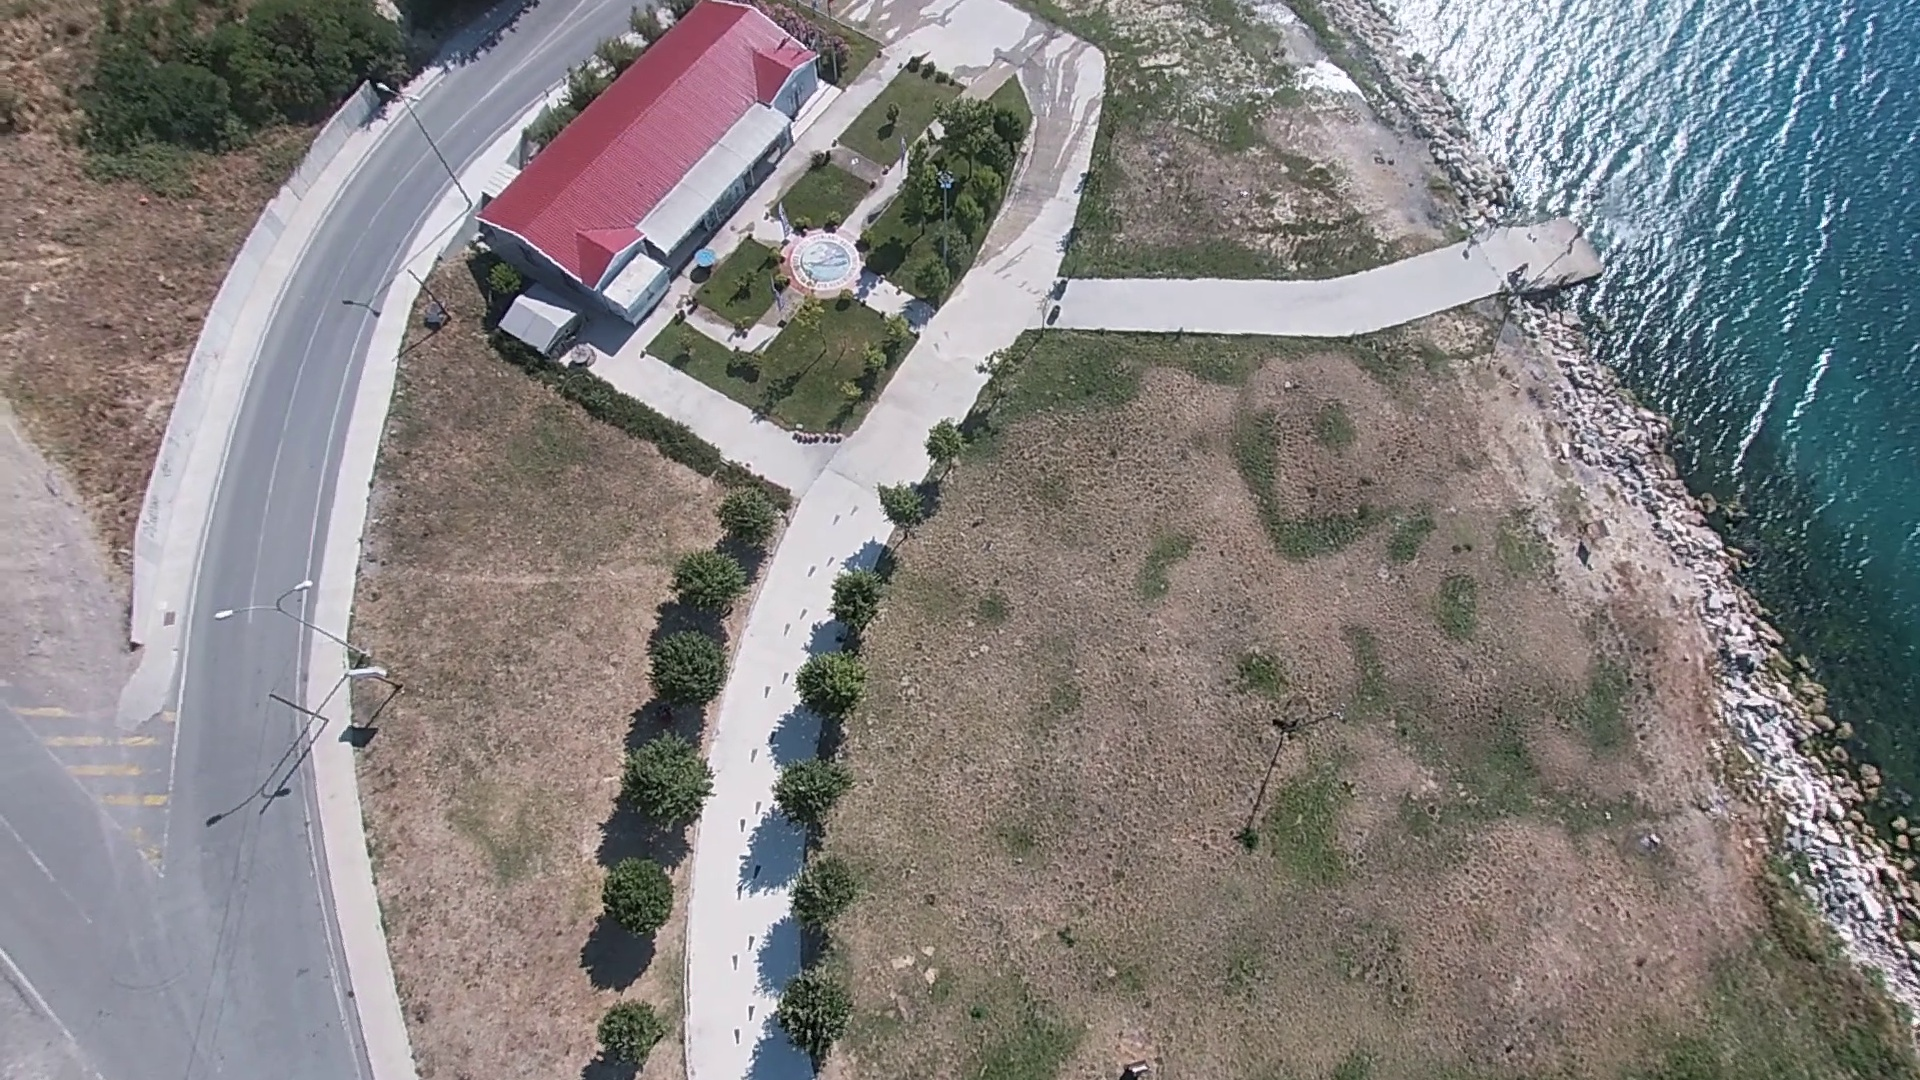insan: (1573, 217, 1593, 243)
